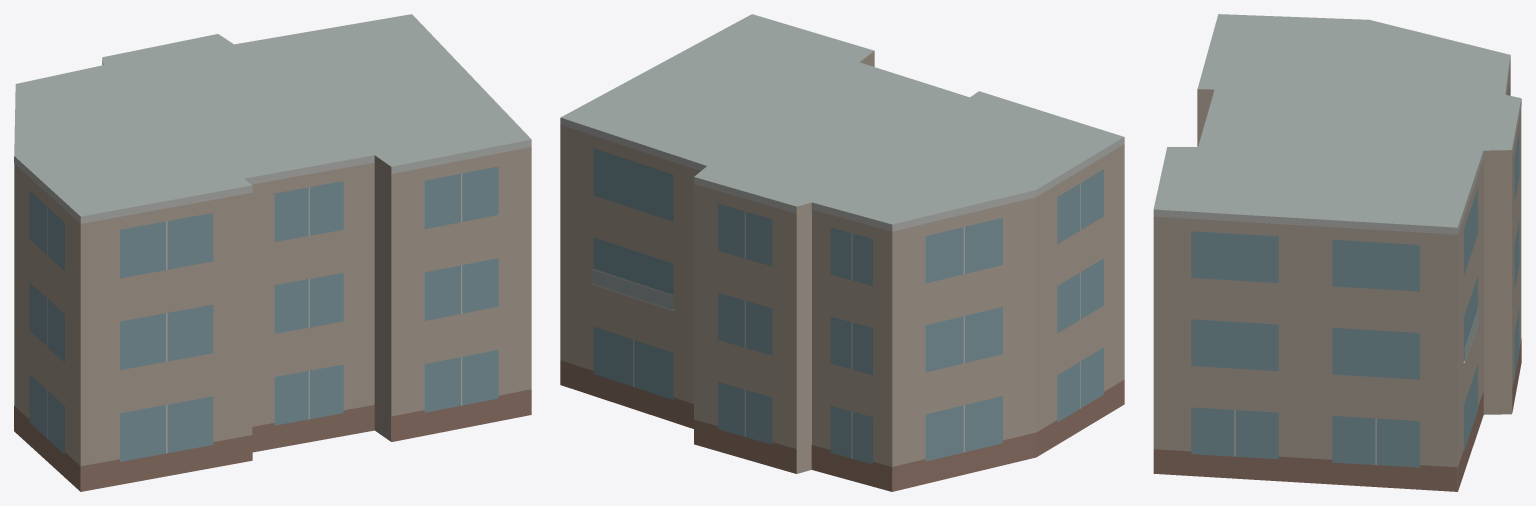
Rendered from survey-upis-33011004.glb.
3 views of the same model, side by side, from view 1: azimuth 30°, elevation 25°; view 2: azimuth 150°, elevation 25°; view 3: azimuth 270°, elevation 25° (orthographic). The views are drawn at different scales.
Visible parts, largest first — view 1: survey-upis-33011004.tmp; view 2: survey-upis-33011004.tmp; view 3: survey-upis-33011004.tmp.
Boxes of the visible parts, x1,y1,x2,y2 form: survey-upis-33011004.tmp: [14, 14, 531, 491]; survey-upis-33011004.tmp: [560, 14, 1124, 491]; survey-upis-33011004.tmp: [1153, 14, 1521, 491].
Bounding box in the file's own units: 15.88 × 9.15 × 11.56.
